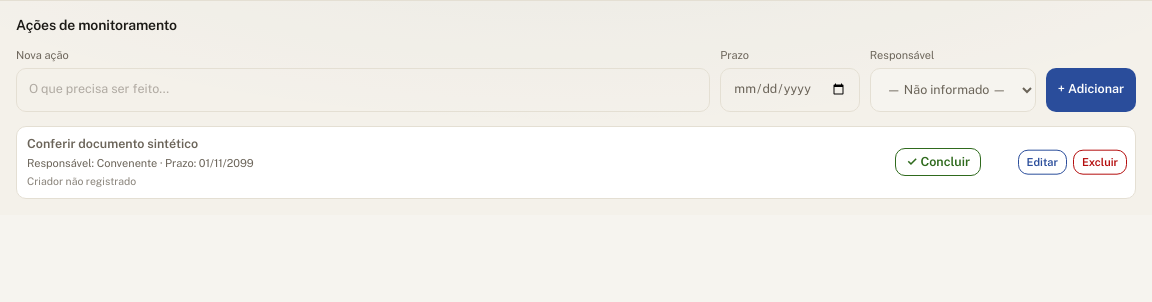
Test: interação das ações de monitoramento › falha ao editar mantém a correção e sucesso fecha apenas a edição
Click the button "Editar" at x=1042, y=162, box x1=1018 y1=150 x2=1067 y2=174
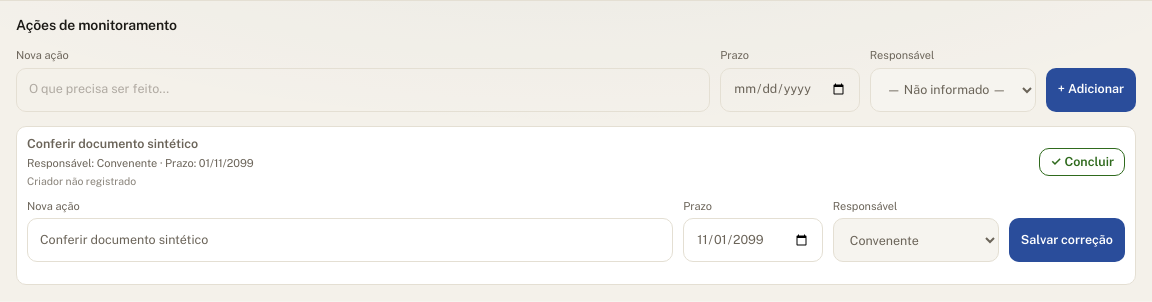
Replace the text in the field labelled "Nova ação" below "Criador não registrado" with "Descrição corrigida" at x=350, y=240, box x1=27 y1=218 x2=673 y2=262
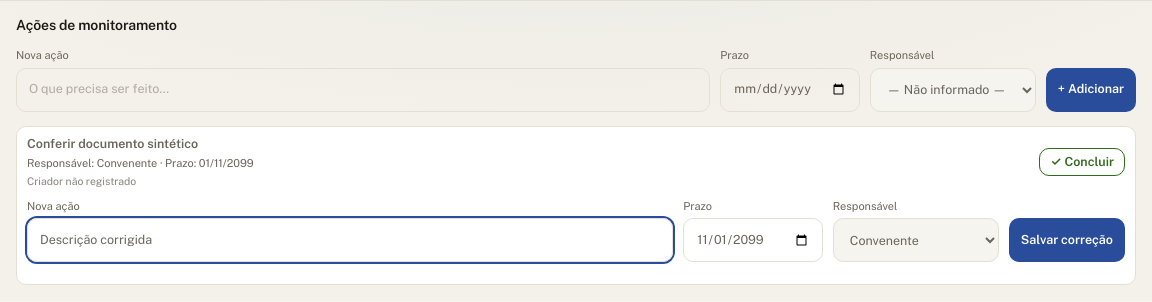
Click the button "Salvar correção" at x=1067, y=240, box x1=1009 y1=218 x2=1125 y2=262
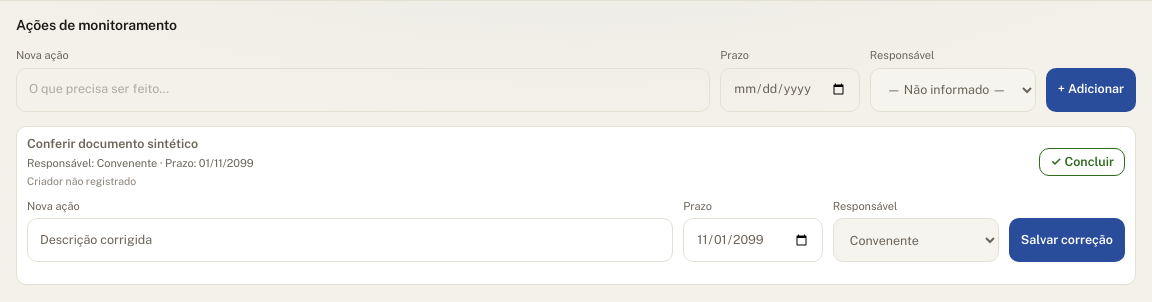
expect the button "Salvar correção" is enabled: met
Click the button "Salvar correção" at x=1067, y=240, box x1=1009 y1=218 x2=1125 y2=262
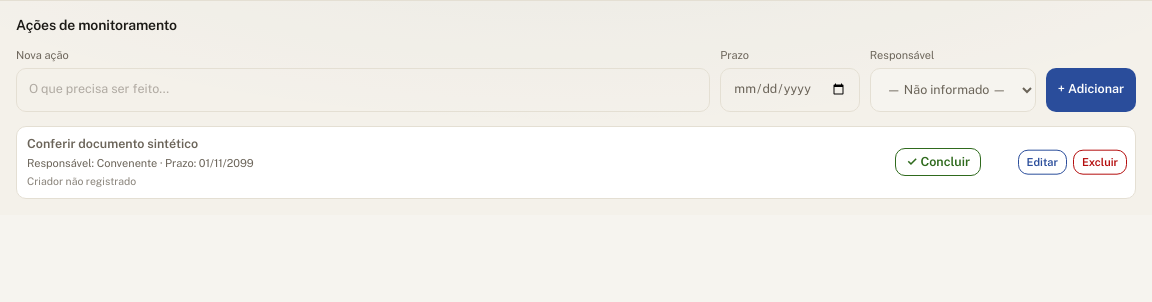
expect the button "+ Adicionar" is shown: met, box x1=1046 y1=68 x2=1136 y2=112
expect the button "Salvar correção" is gone: met
